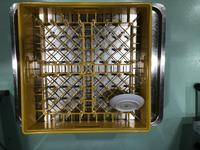Inclined_dish: (109, 94, 145, 111)
